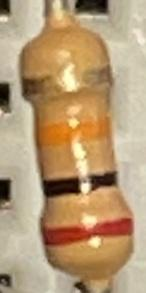Black: (43, 168, 118, 200)
Orange: (35, 112, 112, 150)
Red: (41, 216, 134, 247)
Side-Silver: (21, 62, 114, 100)
